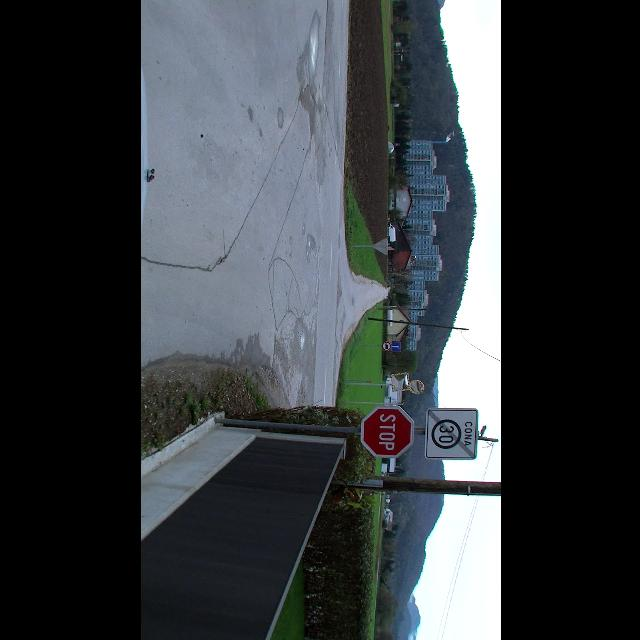Rectangle: (424, 408, 476, 460), (390, 342, 402, 352)
Round: (382, 342, 390, 351)
Stop: (358, 405, 414, 459)
